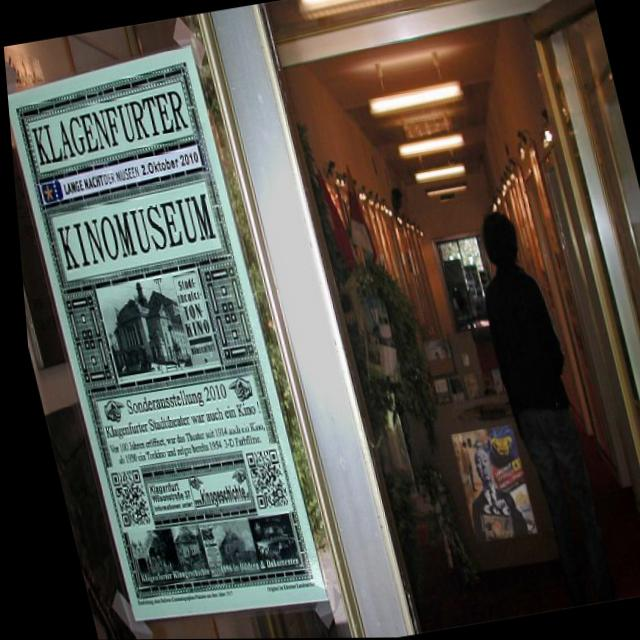qrcode: (239, 450, 281, 510), (104, 469, 144, 529)
